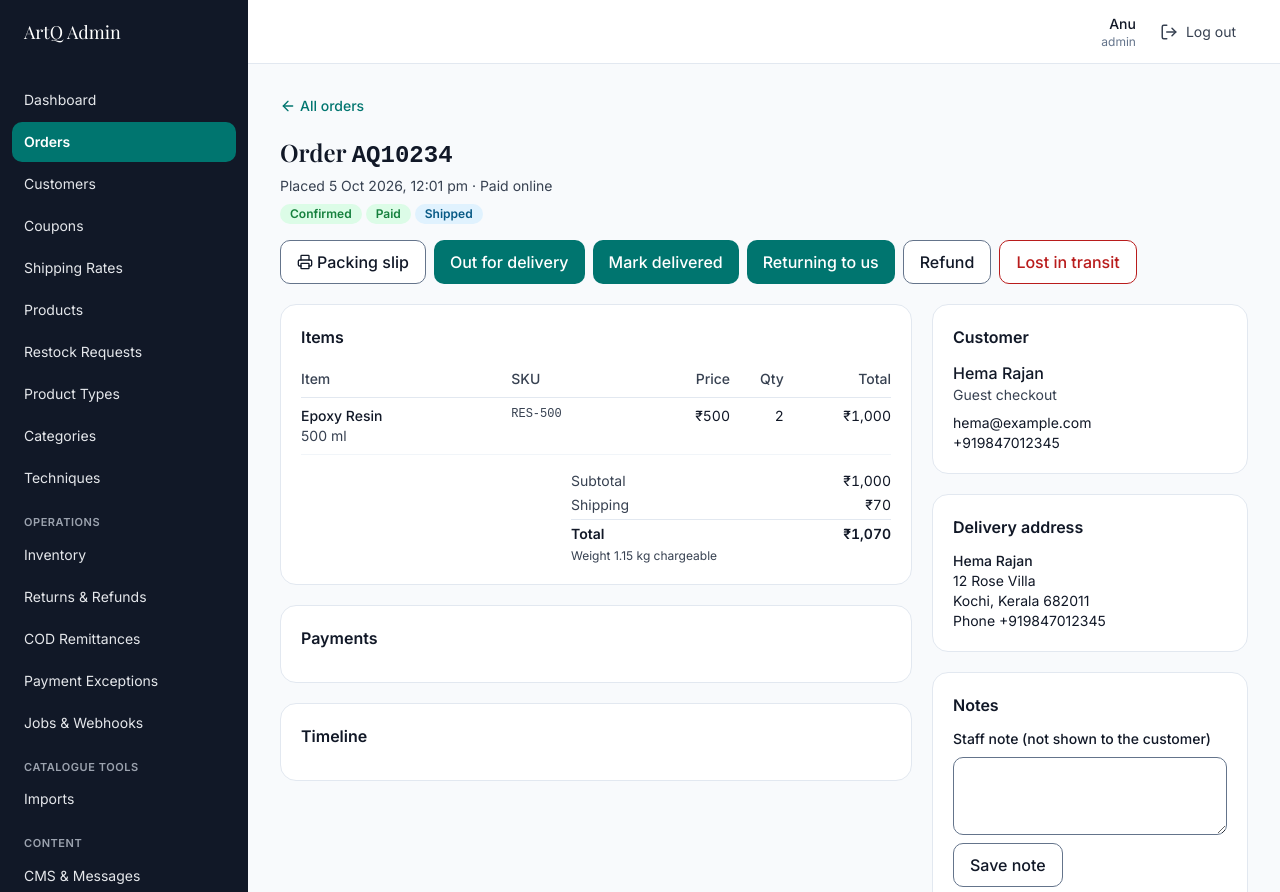
Scenario: order page: RTO and lost › returning to us is a confirmed step
The width and height of the screenshot is (1280, 892).
Click the button "Returning to us" at (821, 262), box [747, 240, 895, 284]
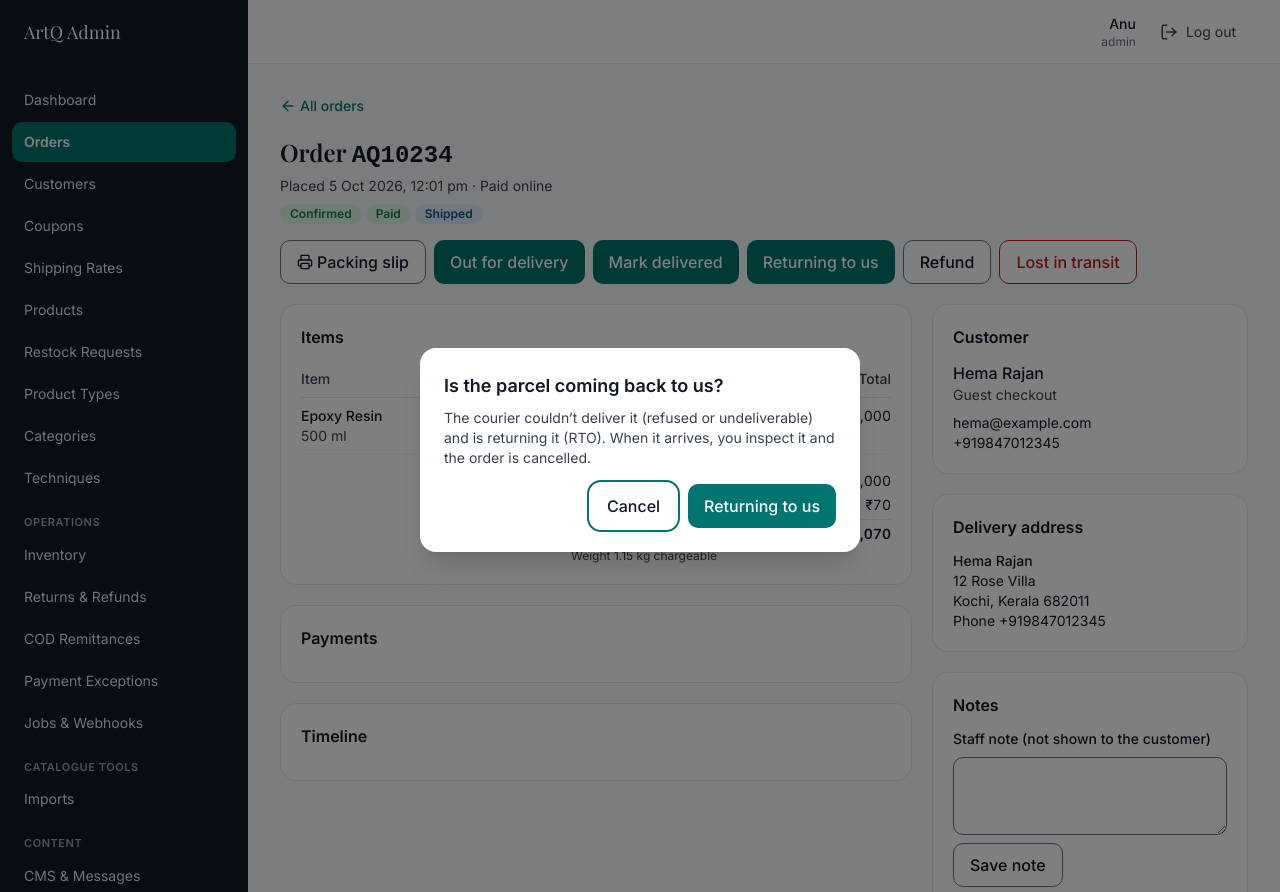
Click the button "Returning to us" at (762, 506), box [688, 484, 836, 528]
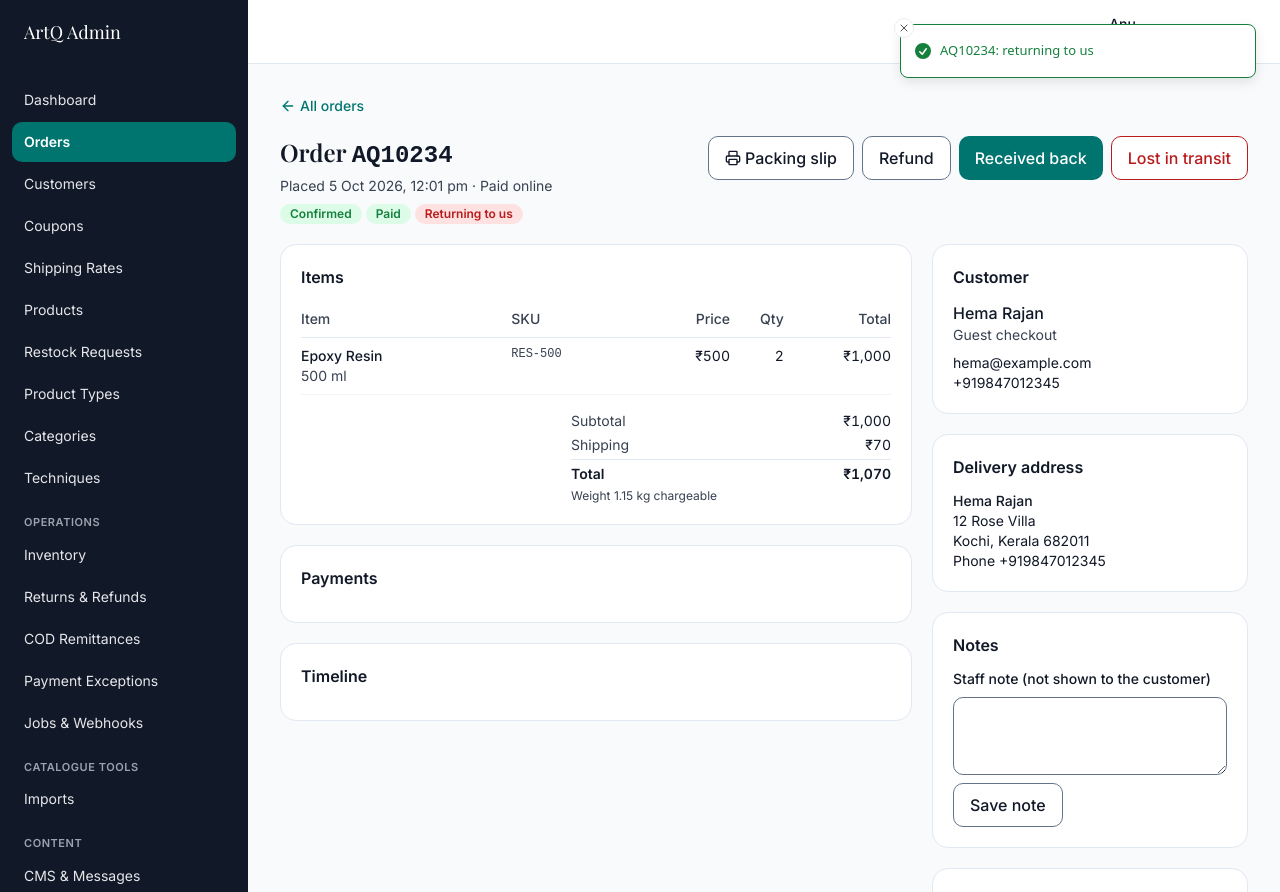
Now the button "Received back" is shown, box [959, 136, 1103, 180]
